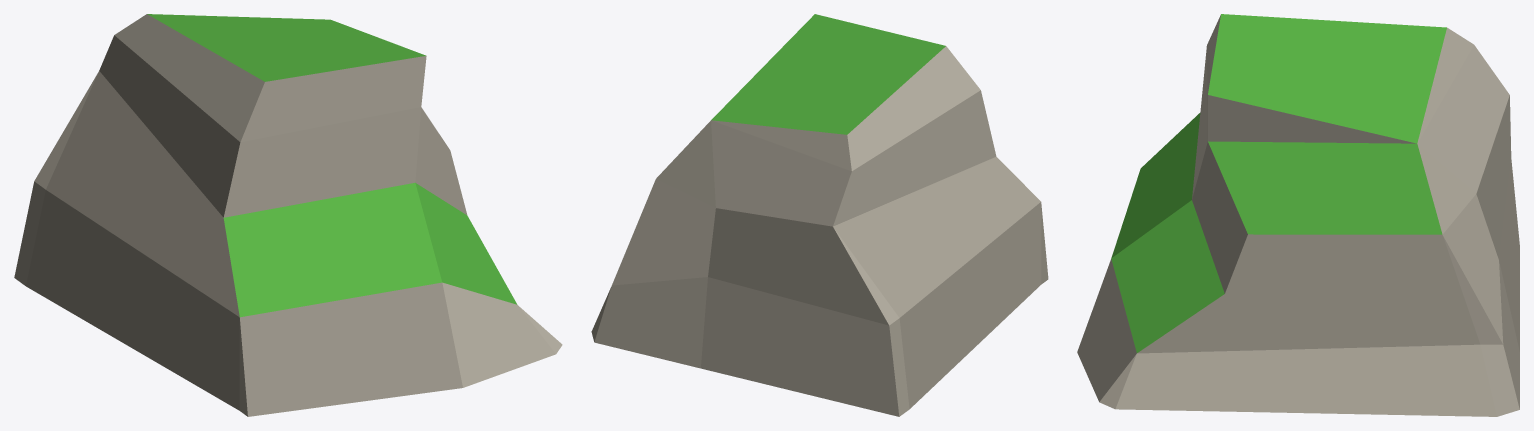
File: mossy-rock.glb
3 renders of one model, left to right at view 1: azimuth 30°, elevation 25°; view 2: azimuth 150°, elevation 25°; view 3: azimuth 270°, elevation 25°, orthographic. The views are drawn at different scales.
Parts seen in each view (by area): view 1: Rock_Moss_3; view 2: Rock_Moss_3; view 3: Rock_Moss_3.
Boxes of the visible parts, x1=… form: Rock_Moss_3: x1=14, y1=14, x2=562, y2=416; Rock_Moss_3: x1=591, y1=14, x2=1048, y2=416; Rock_Moss_3: x1=1077, y1=14, x2=1519, y2=416.
Bounding box in the file's own units: 1.48 × 1.11 × 1.61.
